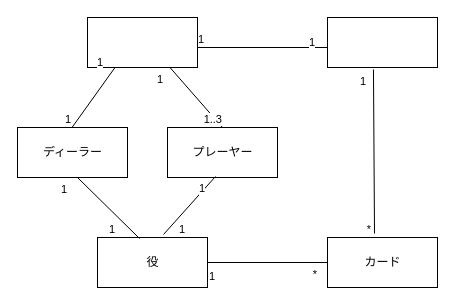
Image size: 455x305. Some labels were removed from this diagram. The shapes that lost their labels are listed below. From the top down, each one's centre as x and y in pixels, then its label:
At [142,42]: "ゲーム".
At [382,42]: "デッキ".
